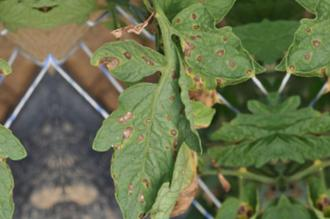Tomato Early blight leaf: (89, 55, 206, 219), (171, 0, 254, 91), (86, 33, 174, 87), (207, 182, 268, 219)
